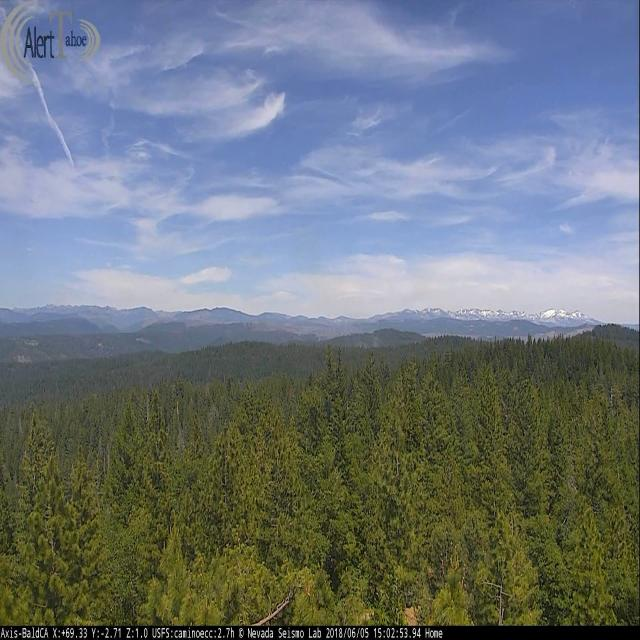smoke: (356, 332, 384, 349)
